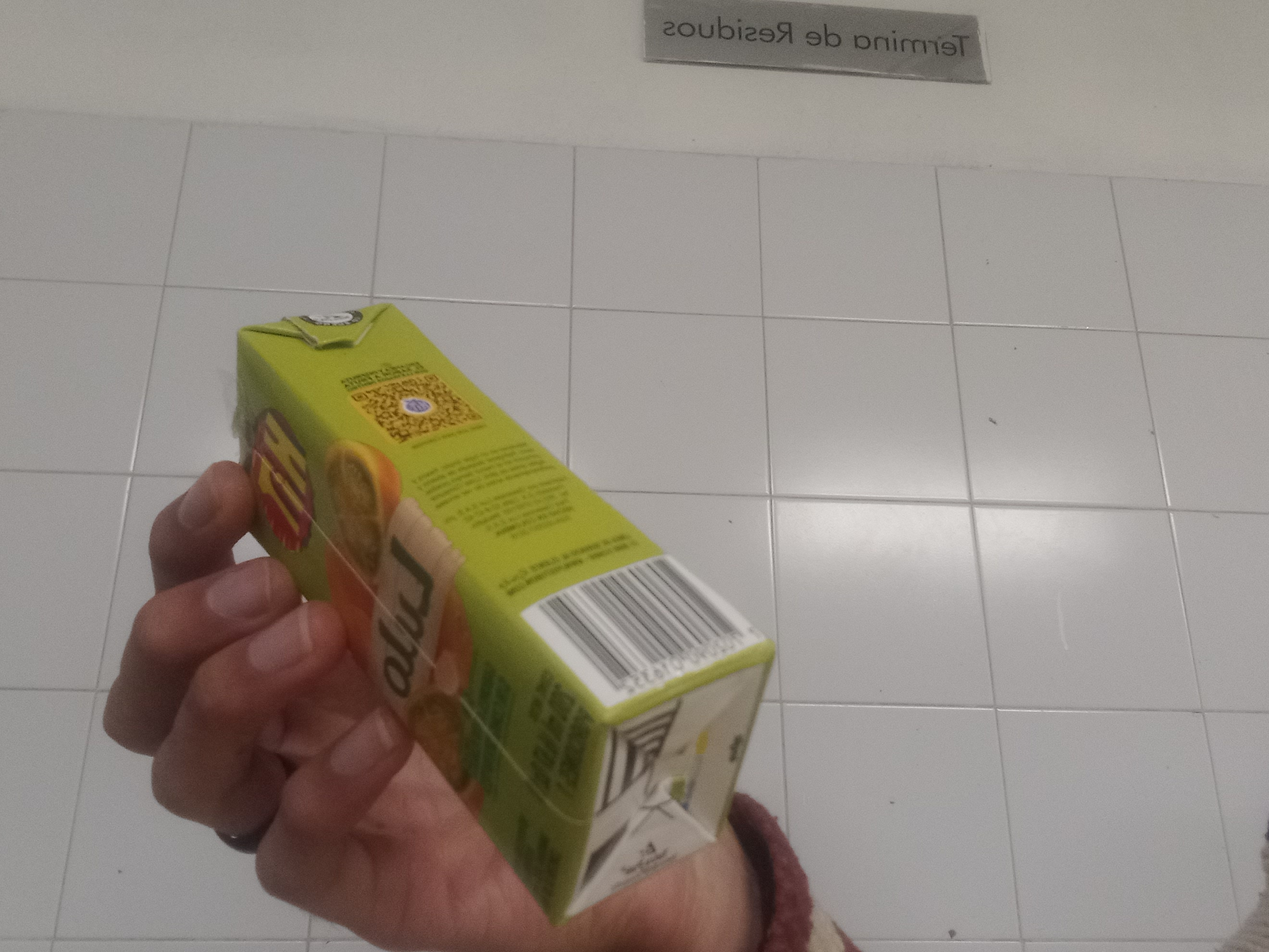Carton: (239, 300, 777, 932)
